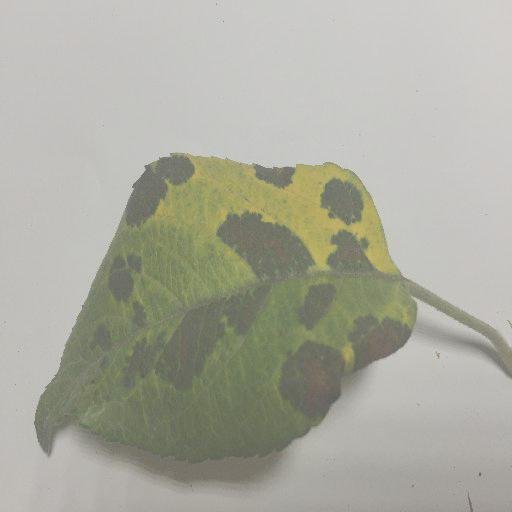Brown_Spot: (220, 223, 305, 289), (162, 313, 220, 385), (282, 345, 330, 412), (346, 321, 416, 357), (333, 229, 382, 271), (220, 293, 268, 330), (326, 178, 369, 214), (102, 262, 139, 303), (305, 283, 336, 331), (129, 176, 152, 230), (255, 166, 298, 193), (124, 348, 153, 378), (160, 161, 200, 176)
